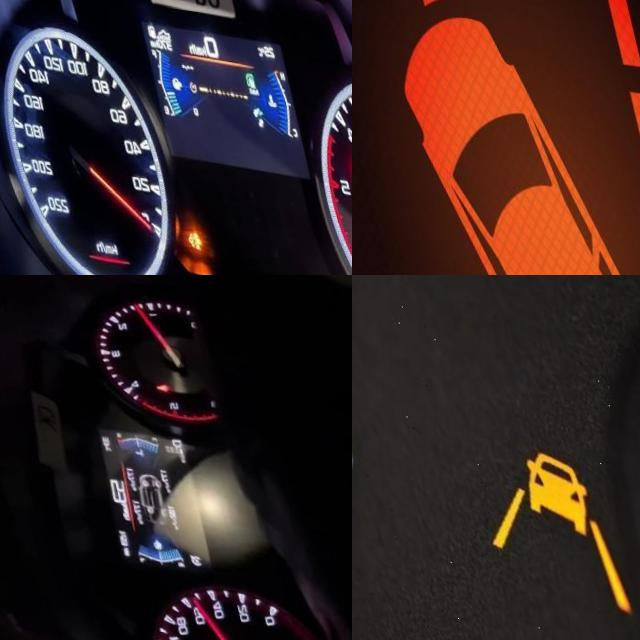Seat Belt: (338, 154, 352, 177), (144, 373, 158, 385)
